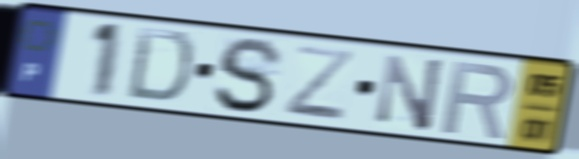1: (89, 21, 126, 100)
D: (123, 24, 197, 106)
N: (373, 51, 447, 135)
R: (438, 57, 517, 142)
S: (211, 34, 286, 117)
Z: (281, 42, 357, 124)
